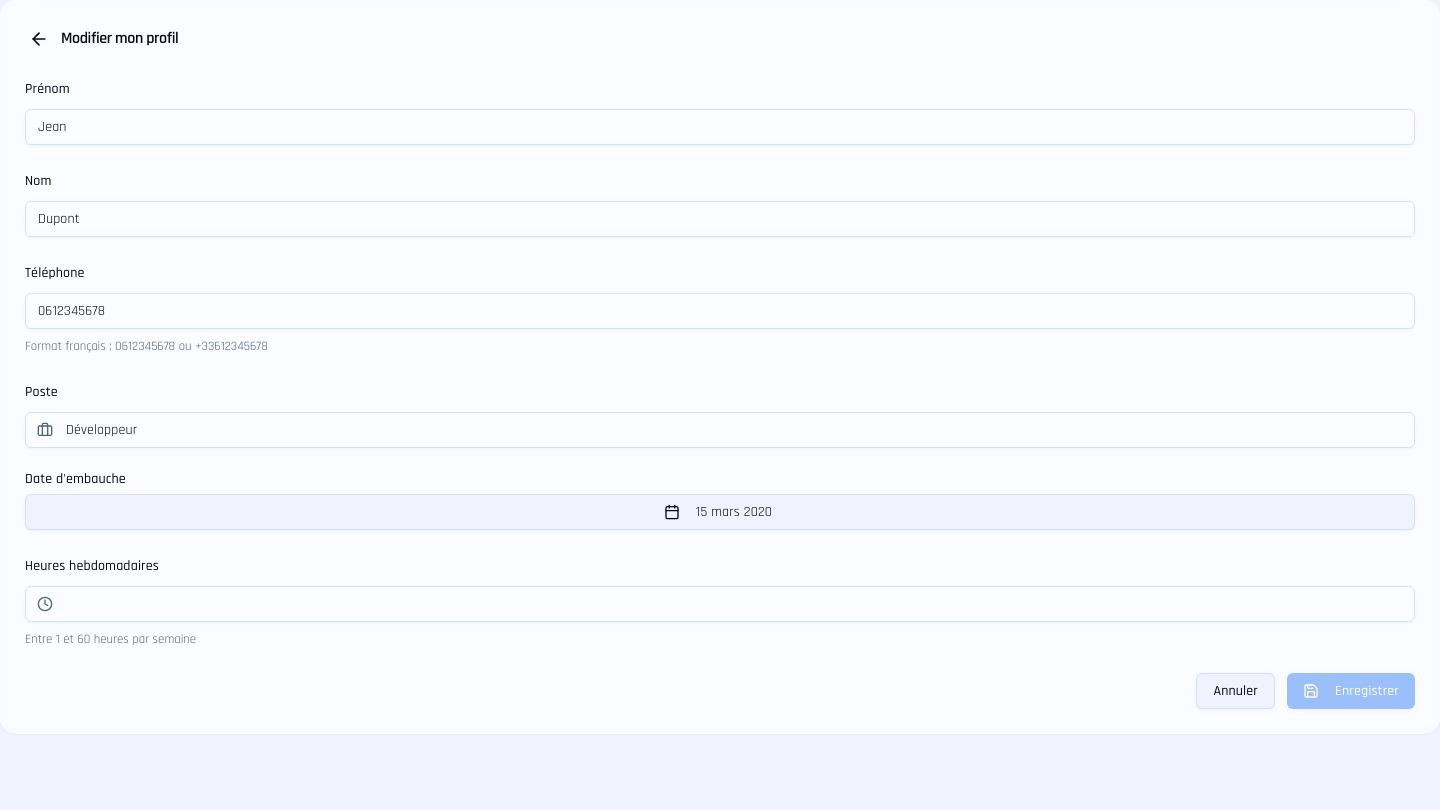
Test case: EditProfileForm › Validation côté client › should show error for lastName empty
This screenshot has width=1440, height=810.
Clear the field with test id "input-lastName" at (720, 219), box [25,201,1415,237]
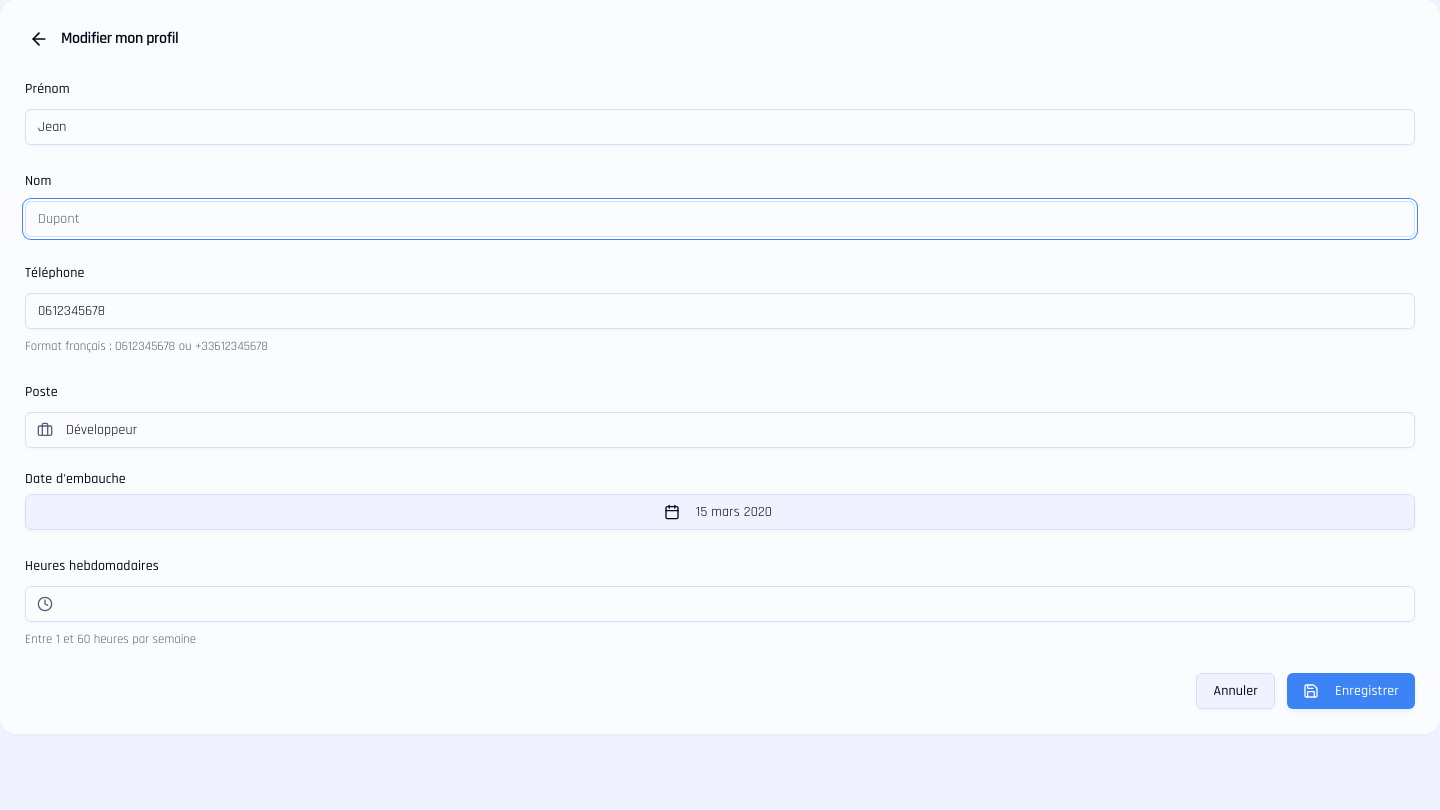
Press Tab
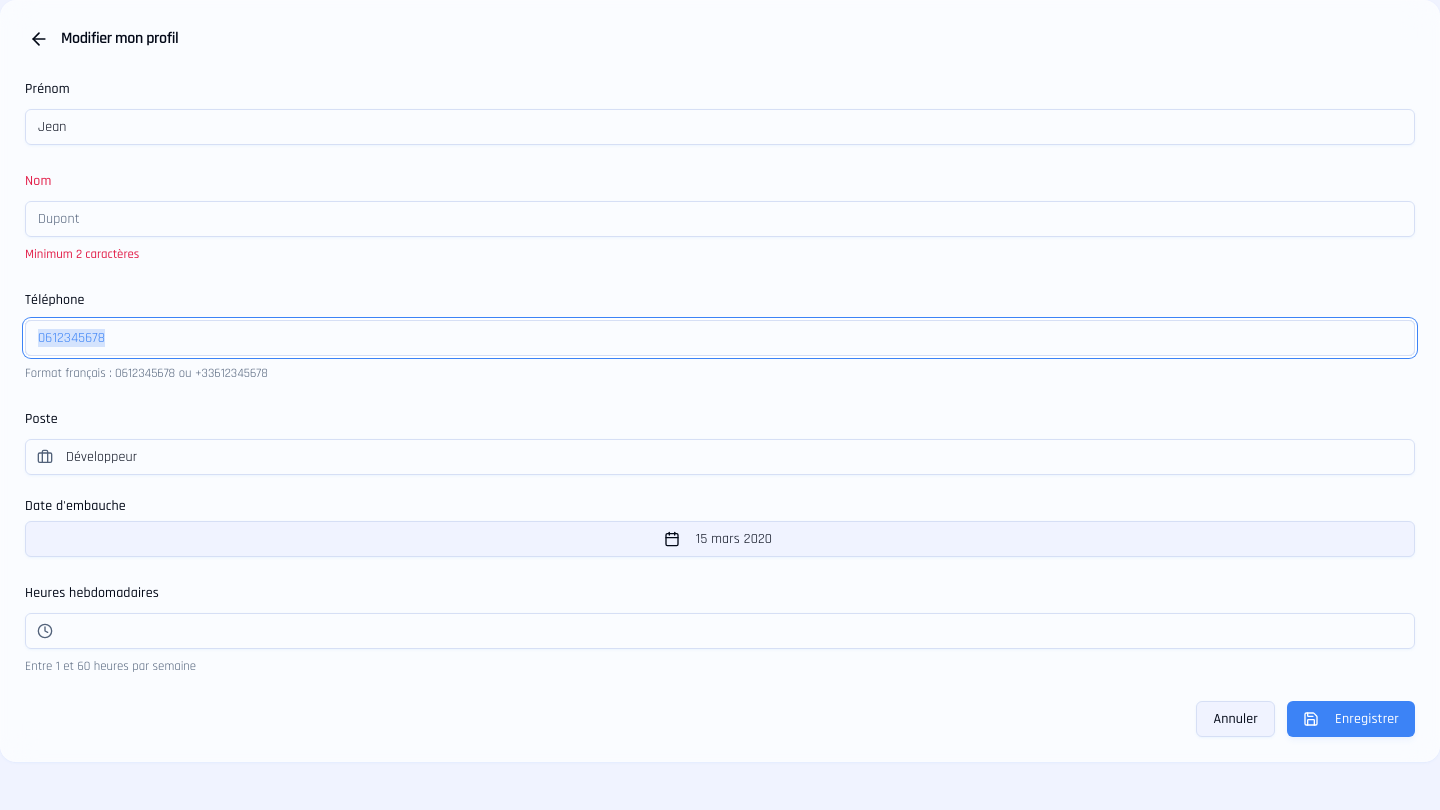
Now the text "Minimum 2 caractères" is shown, box [25,246,139,262]
